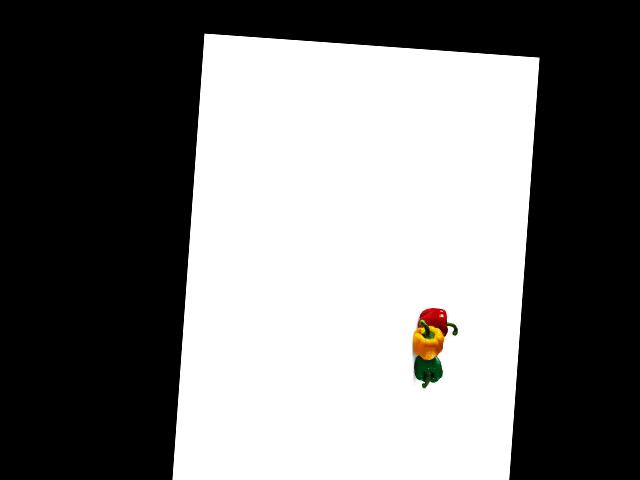bell_pepper: (409, 350, 446, 388)
